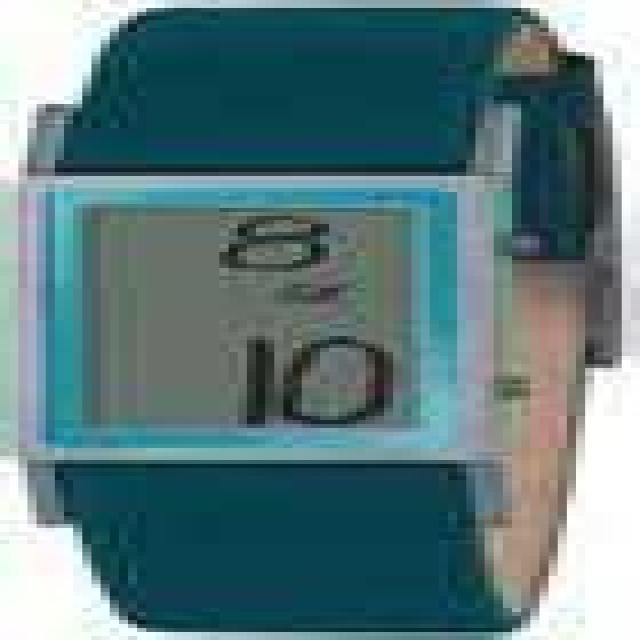watch: (31, 182, 457, 439)
